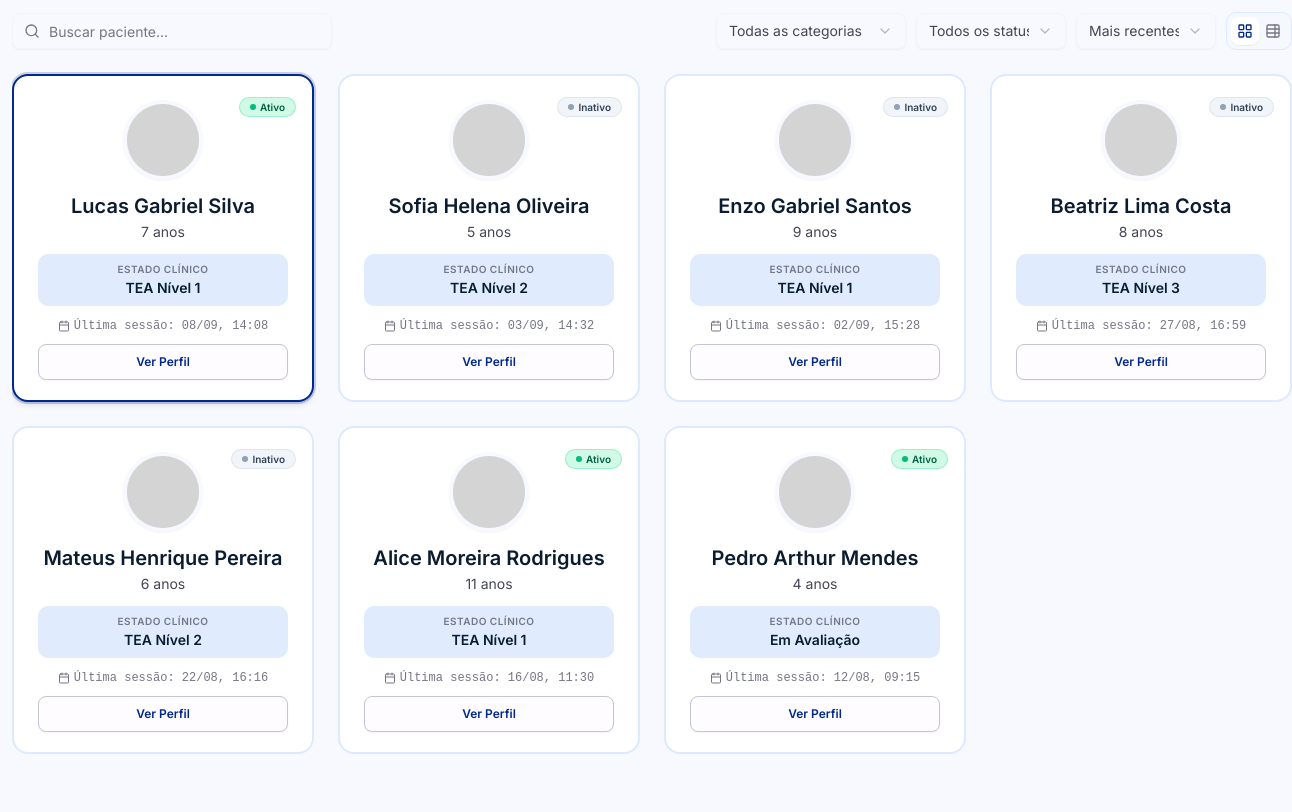
Test case: Componente ListaPacientes (Alternador Tabela vs Grid de Cards) › deve exibir aviso 'Nenhum paciente vinculado' quando permitirCadastro={false} e não houver pacientes no Grid
The width and height of the screenshot is (1292, 812).
Type "NomeInexistenteXYZ" into the field with placeholder "Buscar paciente...". click: (172, 31)
box: [12,13,332,49]
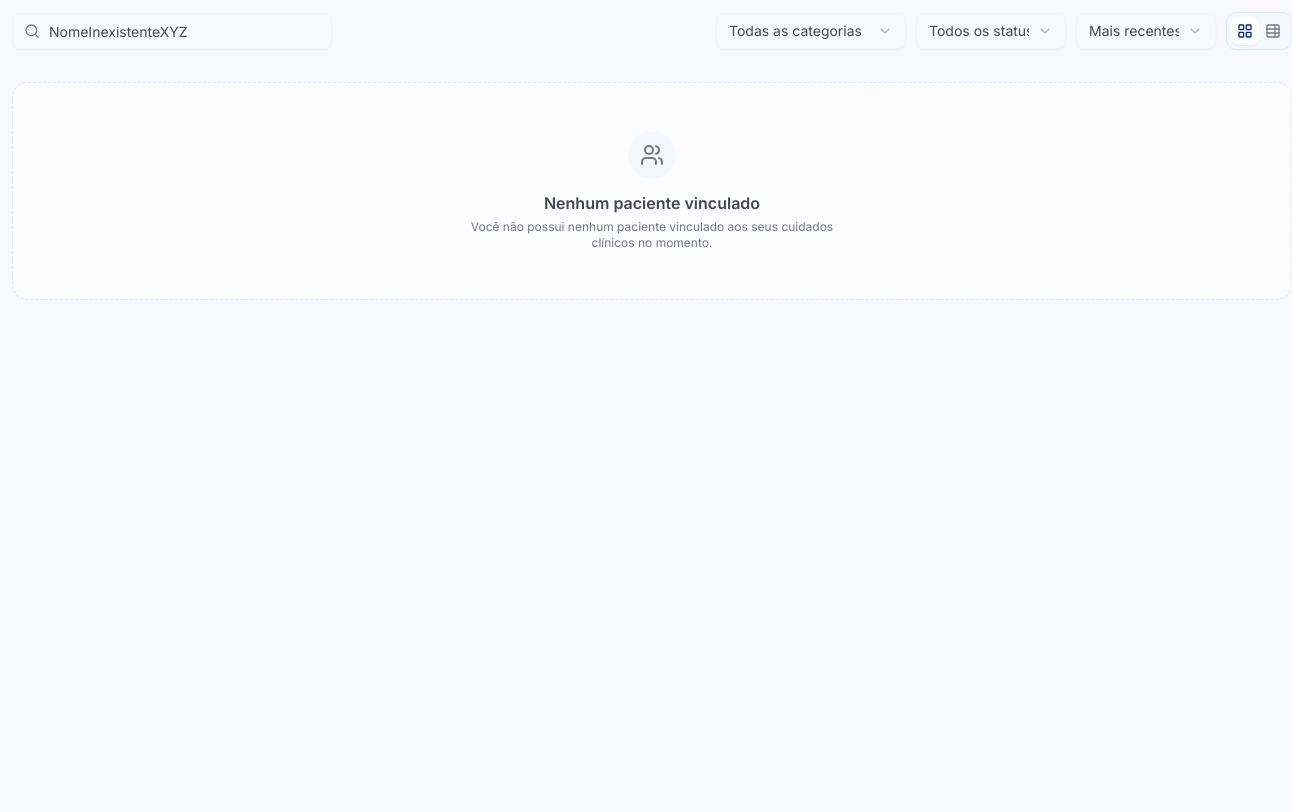
Expected: the text "Nenhum paciente vinculado" is shown, [544,191,760,215]
Expected: the element with test id "grid-pacientes-vazio" is shown, [12,82,1291,300]
